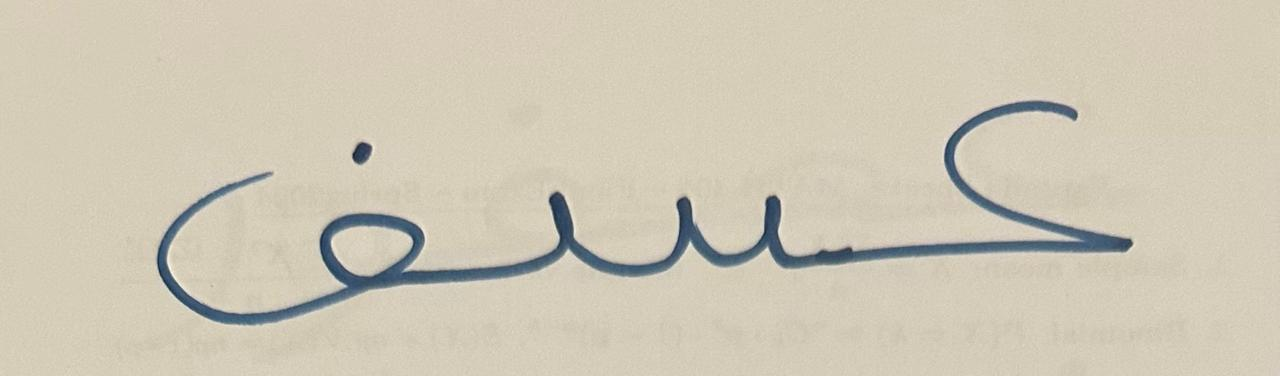ain: (827, 27, 1175, 325)
feh: (92, 30, 466, 355)
sheen: (472, 46, 821, 341)
